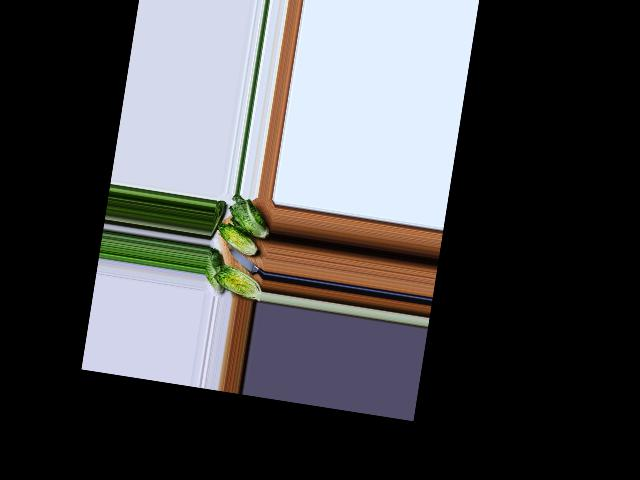lettuce: (204, 248, 229, 293)
